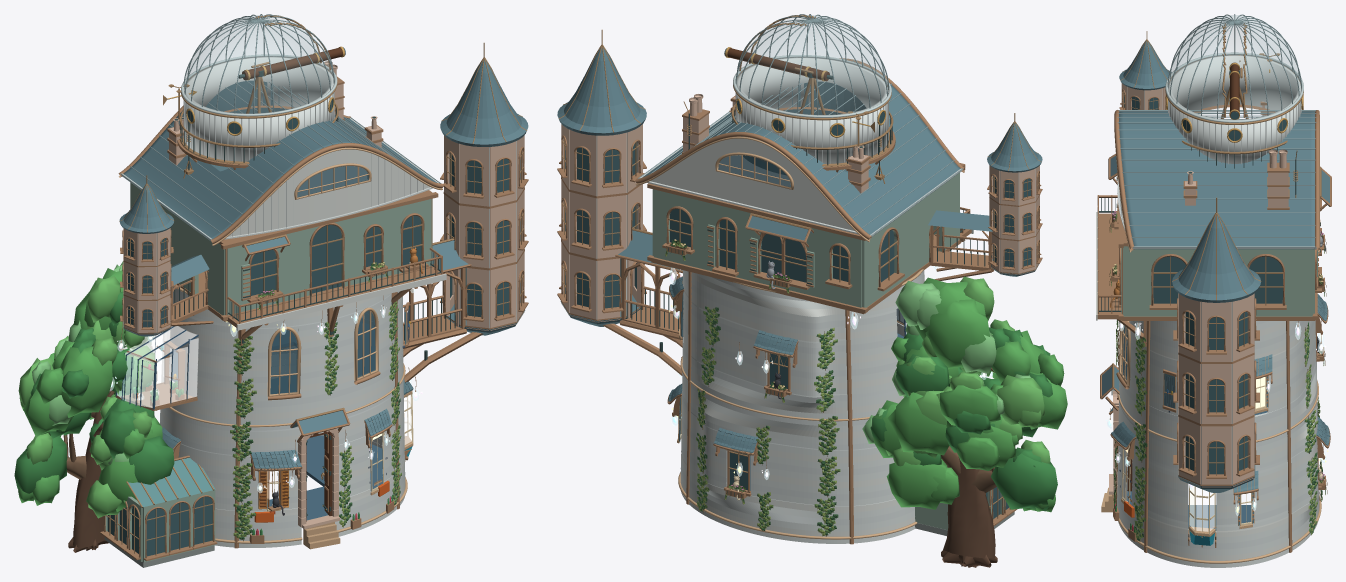
File: mansion-v04-BnB-0t2M.glb
The picture shows the model from 3 angles, left to right: view 1: azimuth 30°, elevation 25°; view 2: azimuth 150°, elevation 25°; view 3: azimuth 270°, elevation 25°; orthographic projection.
Parts seen in each view (by area): view 1: M01_Reuse_TREE_Left_Foliage, M01_Reuse_CURVE_BellGable_SlateRoof, M01_Reuse_ObsDome_Curved, M01_Reuse_CURVE_Observatory_CylindricalDrum, M01_Reuse_CURVE_ArchedGable_PaintedTimber, M01_Tower_WitchHat, M01_Reuse_TREE_Left_Trunk, M01_Conservatory_RoofGlass, M01_Reuse_INT_Slab_Living, M01_Reuse_CURVE_Roof_Soffit, M04_WestPassage, M01_GrandBalcony_Deck (+39 smaller); view 2: M01_Reuse_TREE_Left_Foliage, M01_Reuse_CURVE_BellGable_SlateRoof, M01_Reuse_ObsDome_Curved, M01_Reuse_CURVE_Observatory_CylindricalDrum, M01_Reuse_CURVE_ArchedGable_Rear, M01_Reuse_TREE_Left_Trunk, M01_Tower_WitchHat, M04_WestPassage, M01_Reuse_CURVE_Roof_Soffit, M04_WestTurret_M01_Tower_WitchHat, M01_Reuse_CURVE_Gable_Back_Bargeboard, M03_RearBay_1_Glass (+65 smaller); view 3: M01_Reuse_CURVE_BellGable_SlateRoof, M01_Reuse_CURVE_Observatory_CylindricalDrum, M01_Reuse_ObsDome_Curved, M01_Tower_WitchHat, M01_UpperFloor_Side_L.002, M01_UpperFloor_Side_R.003, M01_GrandBalcony_Deck, M04_WestTurret_M01_Tower_WitchHat, M01_UpperFloor_Side_Glass.004, M01_UpperFloor_Side_Glass.003, M01_Reuse_CURVE_Right_Clapboard_02, M01_Reuse_CURVE_Drum_Cornice_23.685 (+82 smaller).
Boxes of the visible parts, box(x1,y1,x2,y2) form: M01_Reuse_TREE_Left_Foliage: box(14, 261, 174, 518); M01_Reuse_CURVE_BellGable_SlateRoof: box(122, 80, 436, 240); M01_Reuse_ObsDome_Curved: box(184, 15, 333, 113); M01_Reuse_CURVE_Observatory_CylindricalDrum: box(184, 56, 333, 161); M01_Reuse_CURVE_ArchedGable_PaintedTimber: box(228, 147, 429, 236); M01_Tower_WitchHat: box(440, 60, 528, 146); M01_Reuse_TREE_Left_Trunk: box(63, 346, 156, 552); M01_Conservatory_RoofGlass: box(128, 457, 215, 507); M01_Reuse_INT_Slab_Living: box(267, 435, 382, 520); M01_Reuse_CURVE_Roof_Soffit: box(121, 118, 439, 240); M04_WestPassage: box(170, 254, 213, 326); M01_GrandBalcony_Deck: box(227, 267, 440, 327); M01_Reuse_TREE_Left_Foliage: box(862, 276, 1067, 512); M01_Reuse_CURVE_BellGable_SlateRoof: box(642, 81, 961, 238); M01_Reuse_ObsDome_Curved: box(737, 15, 887, 114); M01_Reuse_CURVE_Observatory_CylindricalDrum: box(736, 57, 888, 163); M01_Reuse_CURVE_ArchedGable_Rear: box(650, 136, 854, 230); M01_Reuse_TREE_Left_Trunk: box(941, 368, 997, 567); M01_Tower_WitchHat: box(557, 47, 646, 135); M04_WestPassage: box(928, 210, 993, 280); M01_Reuse_CURVE_Roof_Soffit: box(639, 112, 962, 236); M04_WestTurret_M01_Tower_WitchHat: box(987, 123, 1042, 172); M01_Reuse_CURVE_Gable_Back_Bargeboard: box(635, 132, 871, 239); M03_RearBay_1_Glass: box(761, 234, 806, 282); M01_Reuse_CURVE_BellGable_SlateRoof: box(1119, 111, 1316, 249); M01_Reuse_CURVE_Observatory_CylindricalDrum: box(1168, 55, 1300, 163); M01_Reuse_ObsDome_Curved: box(1169, 15, 1300, 119); M01_Tower_WitchHat: box(1172, 215, 1260, 302); M01_UpperFloor_Side_L.002: box(1123, 246, 1152, 316); M01_UpperFloor_Side_R.003: box(1284, 249, 1313, 316); M01_GrandBalcony_Deck: box(1097, 213, 1118, 319); M04_WestTurret_M01_Tower_WitchHat: box(1119, 41, 1171, 90); M01_UpperFloor_Side_Glass.004: box(1249, 256, 1282, 303); M01_UpperFloor_Side_Glass.003: box(1153, 256, 1185, 303); M01_Reuse_CURVE_Right_Clapboard_02: box(1147, 534, 1288, 555); M01_Reuse_CURVE_Drum_Cornice_23.685: box(1165, 52, 1303, 122).
Size of the model in its own units: 36.61 by 34.67 by 14.88.
